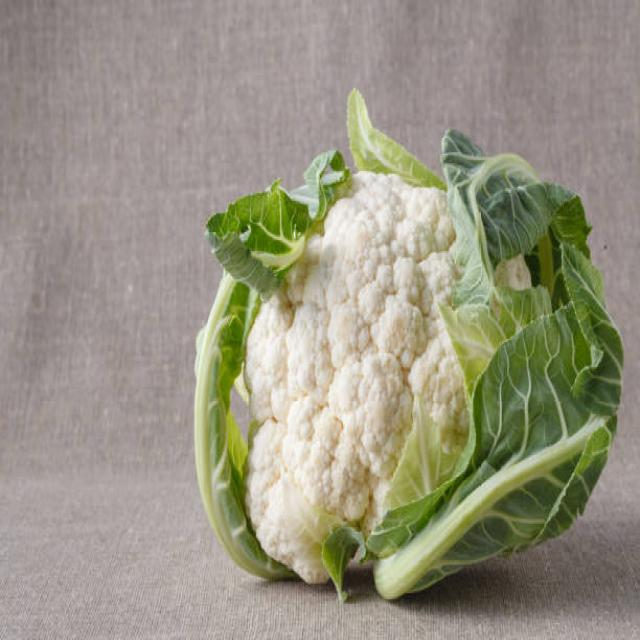cauliflower: (188, 62, 559, 594)
